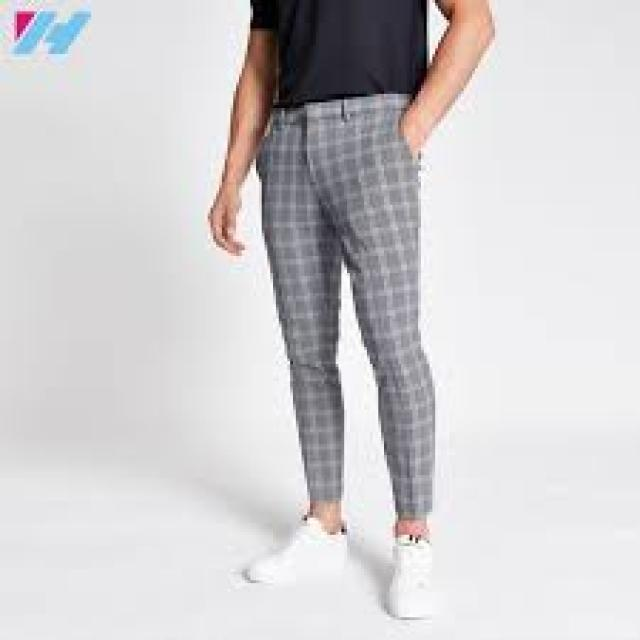pants: (259, 97, 450, 520)
